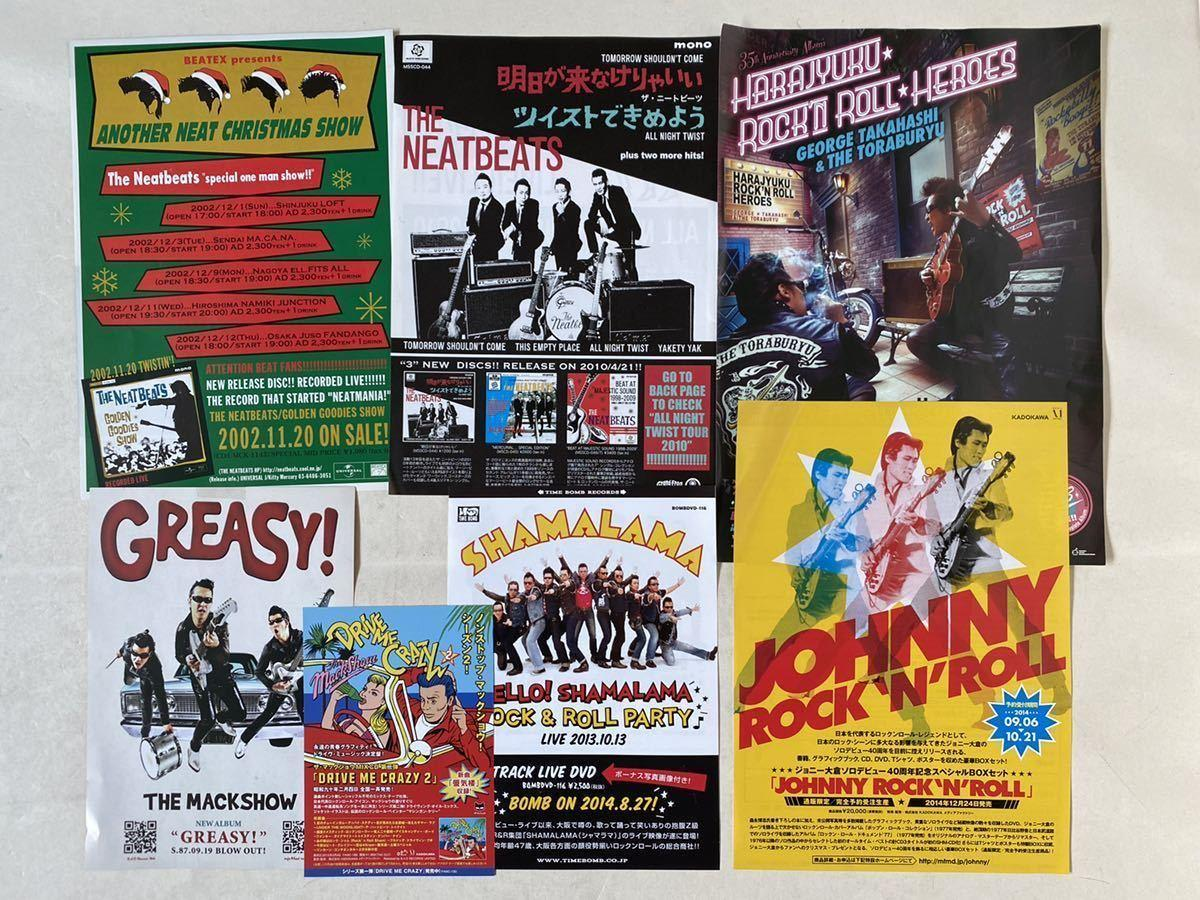paper: (74, 34, 718, 878), (718, 29, 1104, 878)
